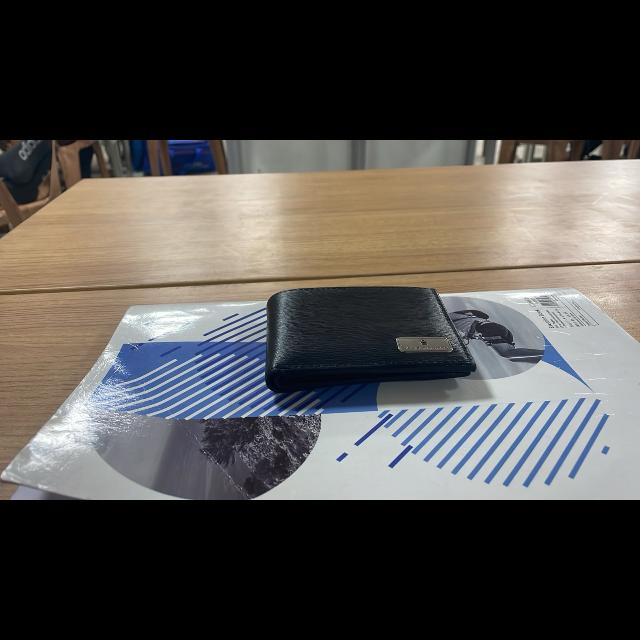wallet: (258, 276, 486, 400)
